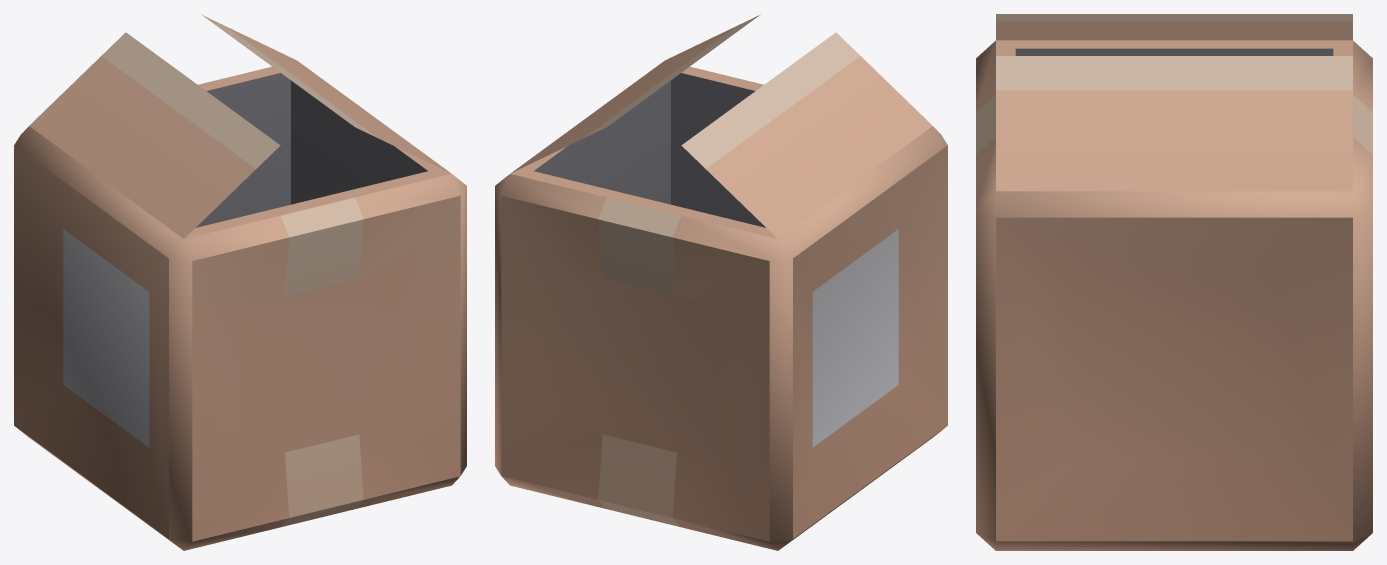
File: crate-open.glb
3 renders of one model, left to right at view 1: azimuth 30°, elevation 25°; view 2: azimuth 150°, elevation 25°; view 3: azimuth 270°, elevation 25°, orthographic. The views are drawn at different scales.
Parts seen in each view (by area): view 1: box-open; view 2: box-open; view 3: box-open.
Part boxes in pixels (box(x1,y1,x2,y2)): box-open: box(14, 14, 466, 550); box-open: box(495, 14, 947, 550); box-open: box(976, 14, 1372, 550).
Bounding box in the file's own units: 0.6531 × 0.8 × 0.6531.
